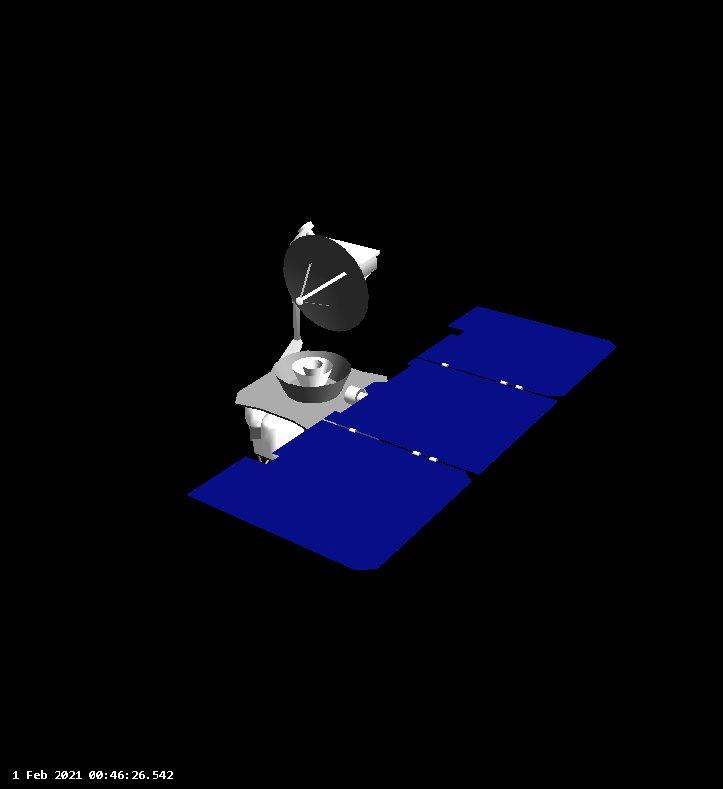antenna: (283, 217, 382, 333)
body: (232, 350, 394, 483)
solar: (184, 298, 620, 573)
thruster: (272, 340, 358, 406)
